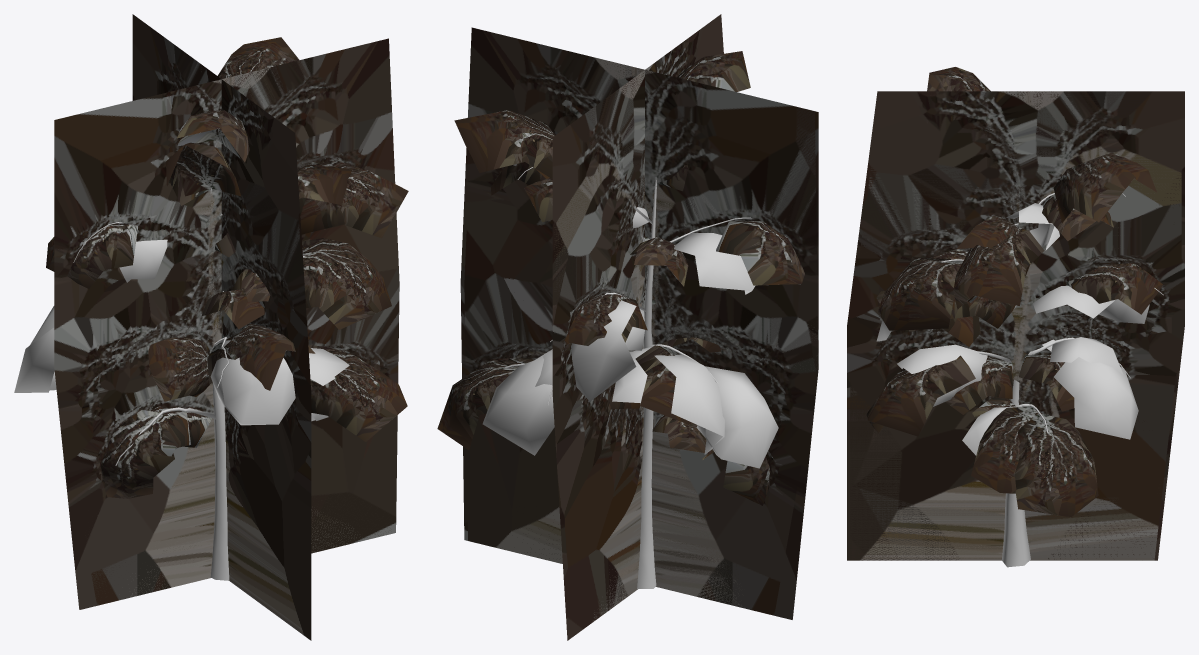
Rendered from Birch_bush1.fbx.
The picture shows the model from 3 angles, left to right: view 1: azimuth 30°, elevation 25°; view 2: azimuth 150°, elevation 25°; view 3: azimuth 270°, elevation 25°; orthographic projection. The views are drawn at different scales.
Parts seen in each view (by area): view 1: Billboard, LOD0; view 2: Billboard, LOD0; view 3: Billboard, LOD0.
Boxes of the visible parts, <box> form: Billboard: <box>54,14,399,640</box>; LOD0: <box>14,37,408,580</box>; Billboard: <box>460,14,818,640</box>; LOD0: <box>437,51,804,588</box>; Billboard: <box>847,91,1184,560</box>; LOD0: <box>866,67,1163,567</box>.
Size of what is drawn, in the model's own units: 306 by 420 by 274.
